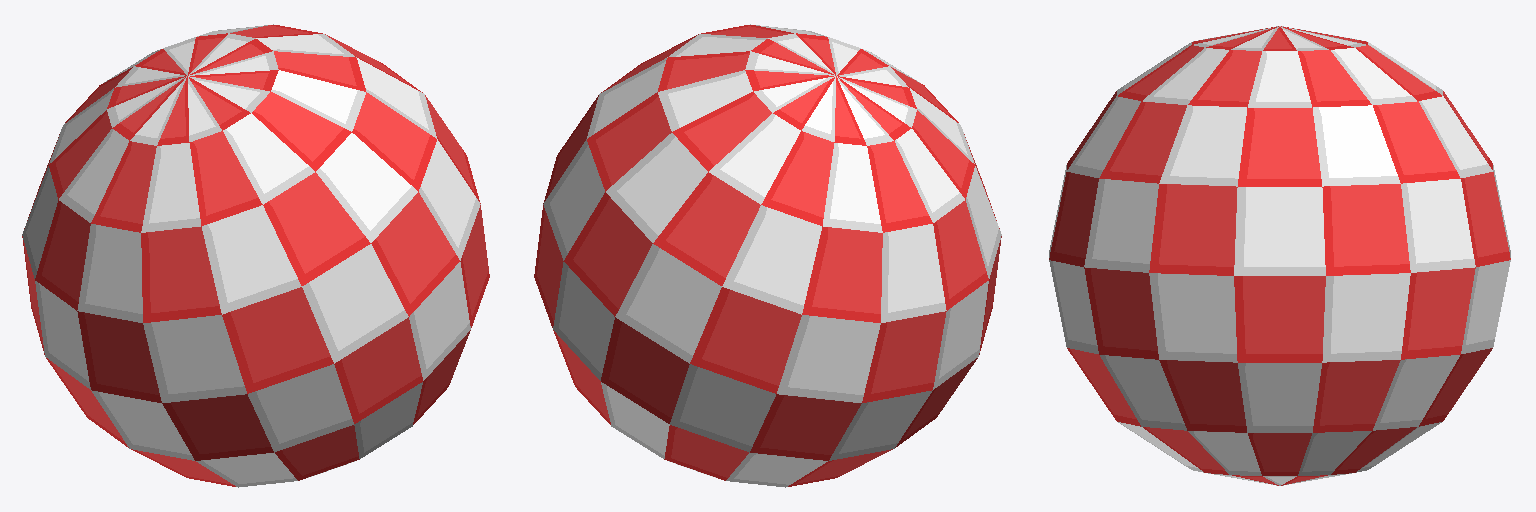
3 renders of one model, left to right at view 1: azimuth 30°, elevation 25°; view 2: azimuth 150°, elevation 25°; view 3: azimuth 270°, elevation 25°, orthographic.
Parts seen in each view (by area): view 1: sphere; view 2: sphere; view 3: sphere.
Boxes of the visible parts, <box> form: sphere: <box>22,24,489,487</box>; sphere: <box>534,24,1001,487</box>; sphere: <box>1049,26,1510,485</box>.
Size of the model in its own units: 0.999 by 0.999 by 1.
Materials: 1 (1 with a texture image).